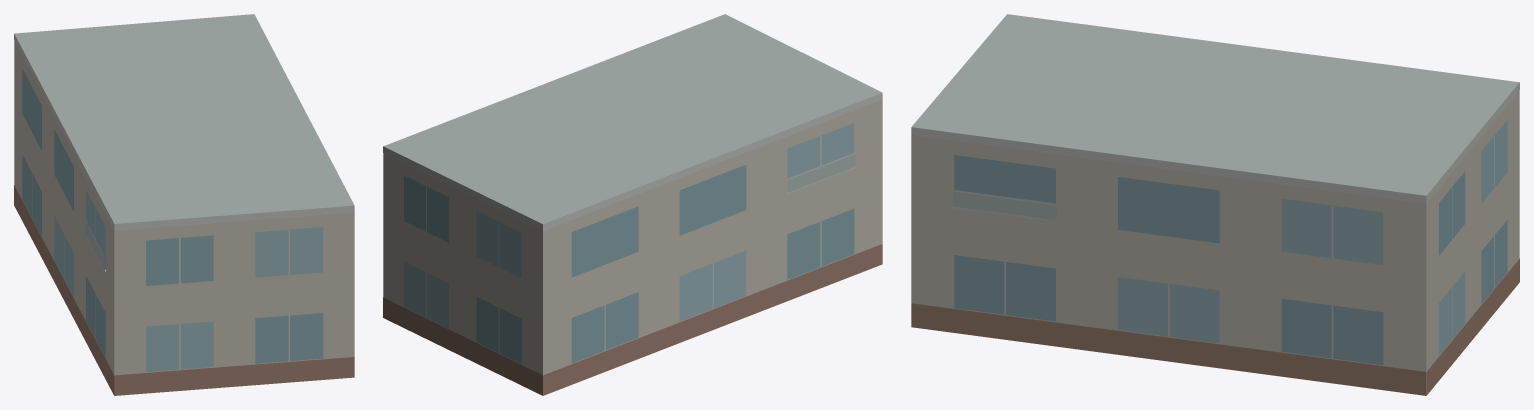
File: survey-upis-32586269.glb
The picture shows the model from 3 angles, left to right: view 1: azimuth 30°, elevation 25°; view 2: azimuth 150°, elevation 25°; view 3: azimuth 270°, elevation 25°; orthographic projection. The views are drawn at different scales.
Visible parts, largest first — view 1: survey-upis-32586269.tmp; view 2: survey-upis-32586269.tmp; view 3: survey-upis-32586269.tmp.
Part boxes in pixels (x1,y1,x2,y2): survey-upis-32586269.tmp: (14,14,354,395); survey-upis-32586269.tmp: (383,14,882,395); survey-upis-32586269.tmp: (911,14,1519,395).
Size of the model in its own units: 11.9 by 6.1 by 16.83.
